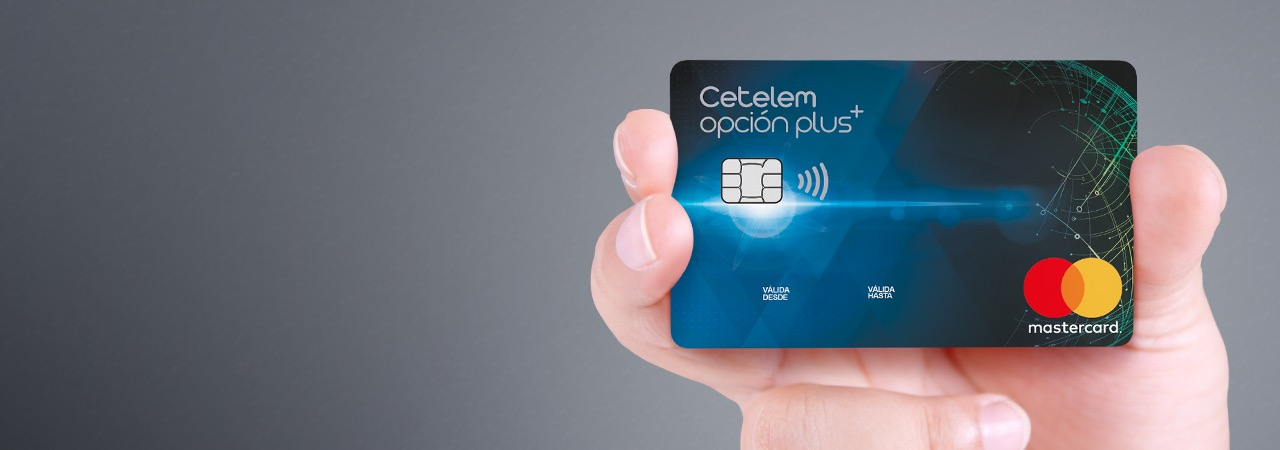tarjeta: (668, 59, 1139, 347)
